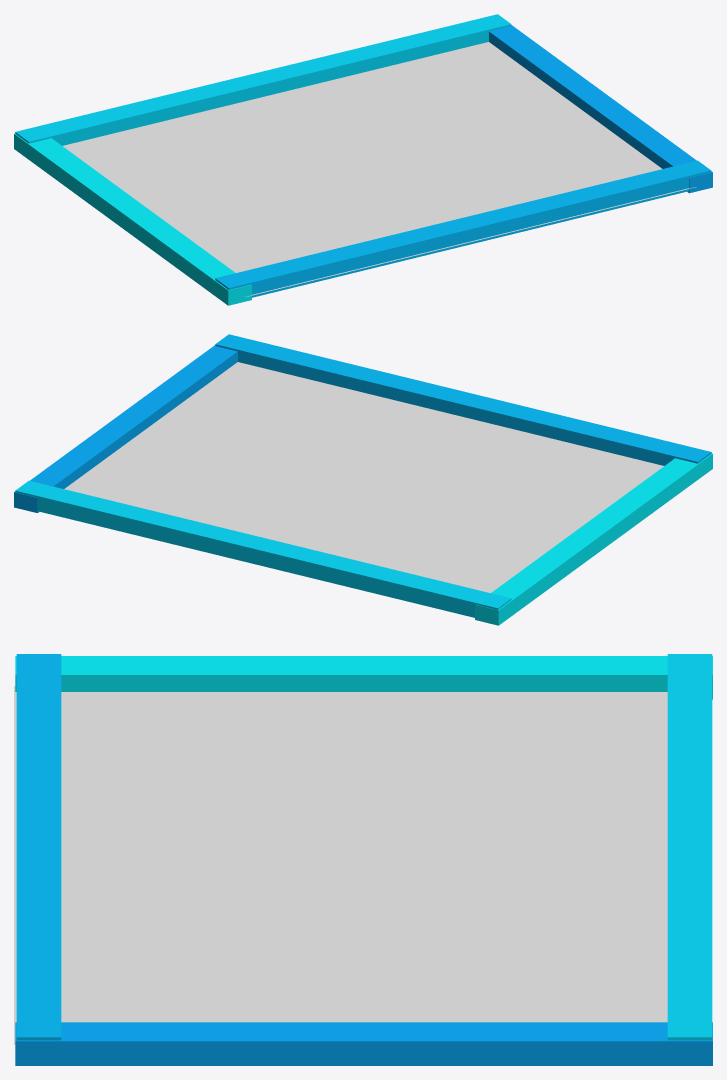
File: frame.7.fbx
3 views of the same model, one above another, from view 1: azimuth 30°, elevation 25°; view 2: azimuth 150°, elevation 25°; view 3: azimuth 270°, elevation 25° (orthographic). The views are drawn at different scales.
Visible parts, largest first — view 1: 平面, 立方体.001, 立方体, 立方体.002, 立方体.003; view 2: 平面, 立方体, 立方体.001, 立方体.002, 立方体.003; view 3: 平面, 立方体.003, 立方体.002, 立方体, 立方体.001.
Part boxes in pixels (x1,y1,x2,y2): 平面: (63,42,696,297); 立方体.001: (215,160,711,297); 立方体: (15,14,511,145); 立方体.002: (14,133,251,305); 立方体.003: (489,25,712,193); 平面: (64,362,663,593); 立方体: (15,480,511,617); 立方体.001: (215,334,711,465); 立方体.002: (475,453,712,625); 立方体.003: (14,345,237,512); 平面: (14,686,667,1044); 立方体.003: (15,1022,712,1065); 立方体.002: (15,656,712,699); 立方体: (667,654,712,1040); 立方体.001: (16,654,61,1040).
Size of the model in its own units: 301 by 10.1 by 231.
